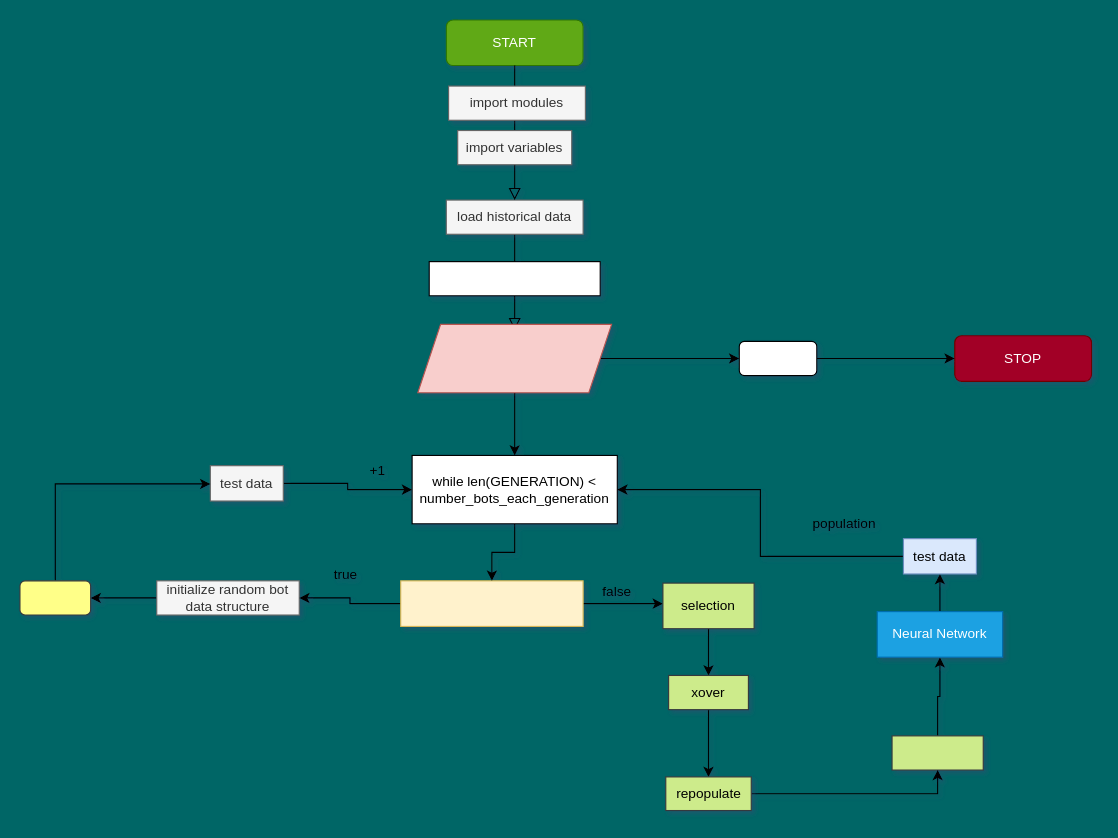
The diagram is 1118 pixels wide and 838 high, and some of its shapes have lost their labels. The centre of each missing label's shape, as x and y in pixels:
"compute financial indexes" goes at (x=514, y=278).
"for number_generation in range(generations)" goes at (x=514, y=358).
"if number_generation == 0" goes at (x=491, y=603).
"Math" goes at (x=55, y=597).
"mutation" goes at (x=937, y=752).
"Report" goes at (x=777, y=358).
